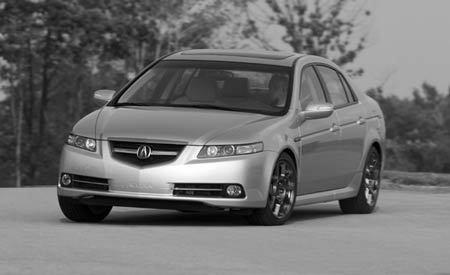car: (57, 50, 388, 218)
